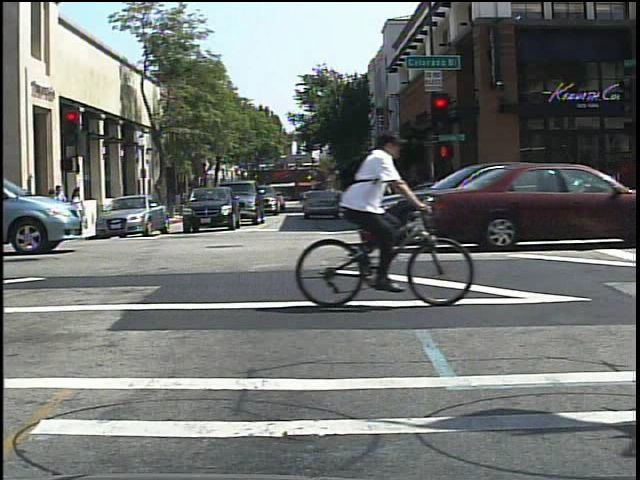person: (331, 123, 418, 301)
